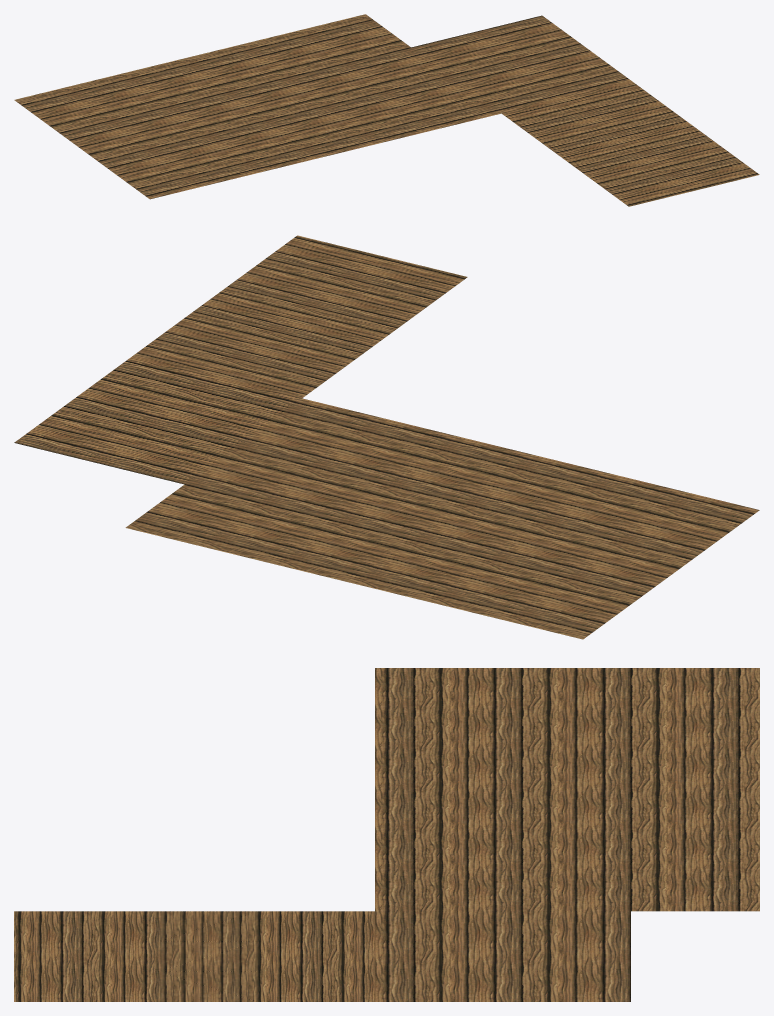
File: LAKETOWN_EXTERIOR_PS_LT_FLOOR_218.fbx
3 renders of one model, top to bottom at view 1: azimuth 30°, elevation 25°; view 2: azimuth 150°, elevation 25°; view 3: azimuth 270°, elevation 25°, orthographic. The views are drawn at different scales.
Visible parts, largest first — view 1: LAKETOWN_EXTERIOR_PS_LT_FLOOR_218; view 2: LAKETOWN_EXTERIOR_PS_LT_FLOOR_218; view 3: LAKETOWN_EXTERIOR_PS_LT_FLOOR_218.
Part boxes in pixels (x1=…): LAKETOWN_EXTERIOR_PS_LT_FLOOR_218: x1=14, y1=14, x2=759, y2=206; LAKETOWN_EXTERIOR_PS_LT_FLOOR_218: x1=14, y1=235, x2=759, y2=639; LAKETOWN_EXTERIOR_PS_LT_FLOOR_218: x1=14, y1=668, x2=759, y2=1001.
Size of the model in its own units: 183956 by 0.0359 by 173761.
1 material, 1 textured.
